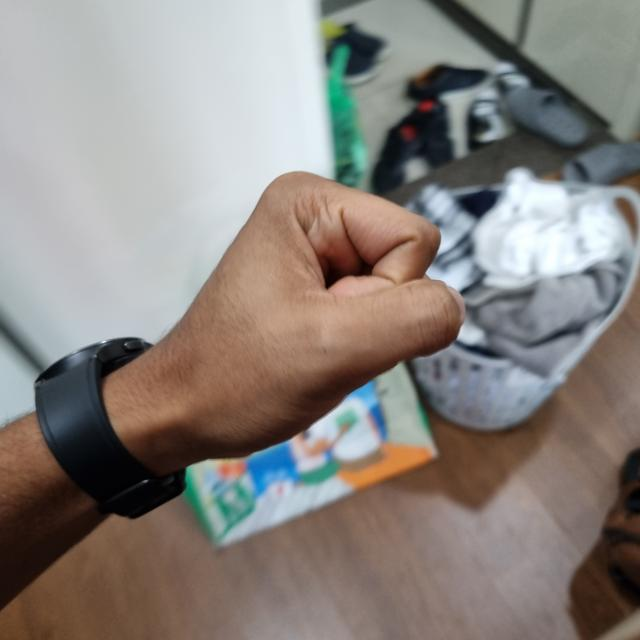Rock: (111, 170, 461, 470)
